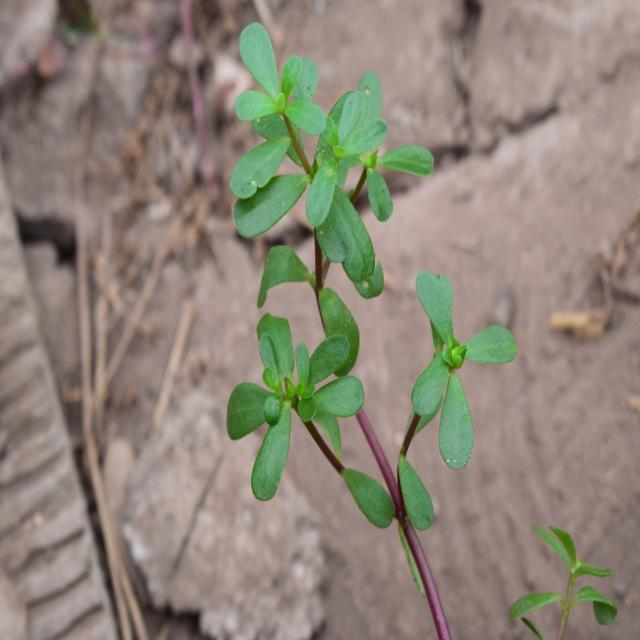purslane: (168, 17, 527, 555)
